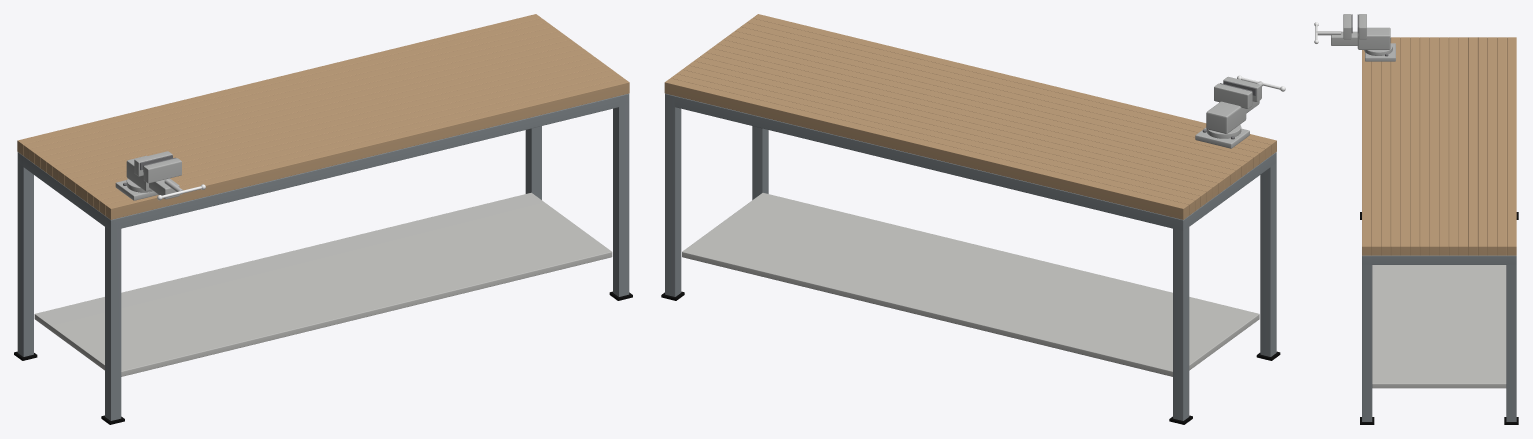
The model's file is industrial.workshop.bench_long.glb.
3 renders of one model, left to right at view 1: azimuth 30°, elevation 25°; view 2: azimuth 150°, elevation 25°; view 3: azimuth 270°, elevation 25°, orthographic. The views are drawn at different scales.
Visible parts, largest first — view 1: main__timber_ca7, main__paint_ccc, main__paint_889, main__galv_bbb; view 2: main__timber_ca7, main__paint_ccc, main__paint_889, main__galv_bbb; view 3: main__timber_ca7, main__paint_ccc, main__paint_889, main__galv_bbb.
Boxes of the visible parts, x1,y1,x2,y2 form: main__timber_ca7: [17, 14, 629, 219]; main__paint_ccc: [34, 192, 612, 376]; main__paint_889: [17, 93, 629, 420]; main__galv_bbb: [115, 151, 181, 200]; main__timber_ca7: [664, 14, 1276, 219]; main__paint_ccc: [682, 193, 1259, 376]; main__paint_889: [665, 93, 1276, 420]; main__galv_bbb: [1195, 76, 1261, 148]; main__timber_ca7: [1362, 37, 1516, 255]; main__paint_ccc: [1372, 265, 1506, 388]; main__paint_889: [1362, 255, 1516, 421]; main__galv_bbb: [1331, 14, 1395, 61].
Bounding box in the file's own units: 2.42 × 1.14 × 0.991.
